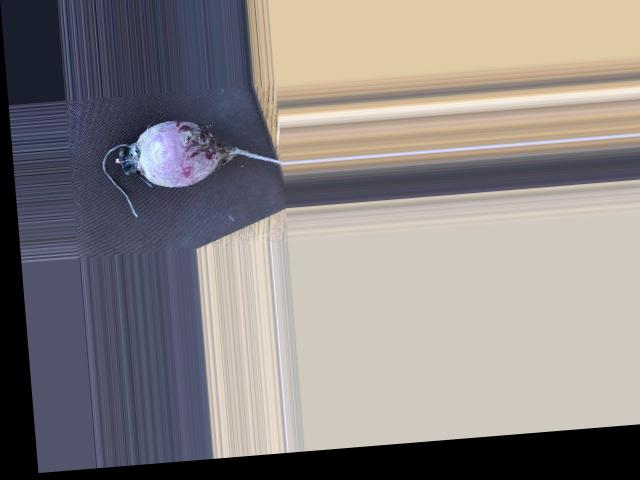beet: (99, 111, 287, 219)
